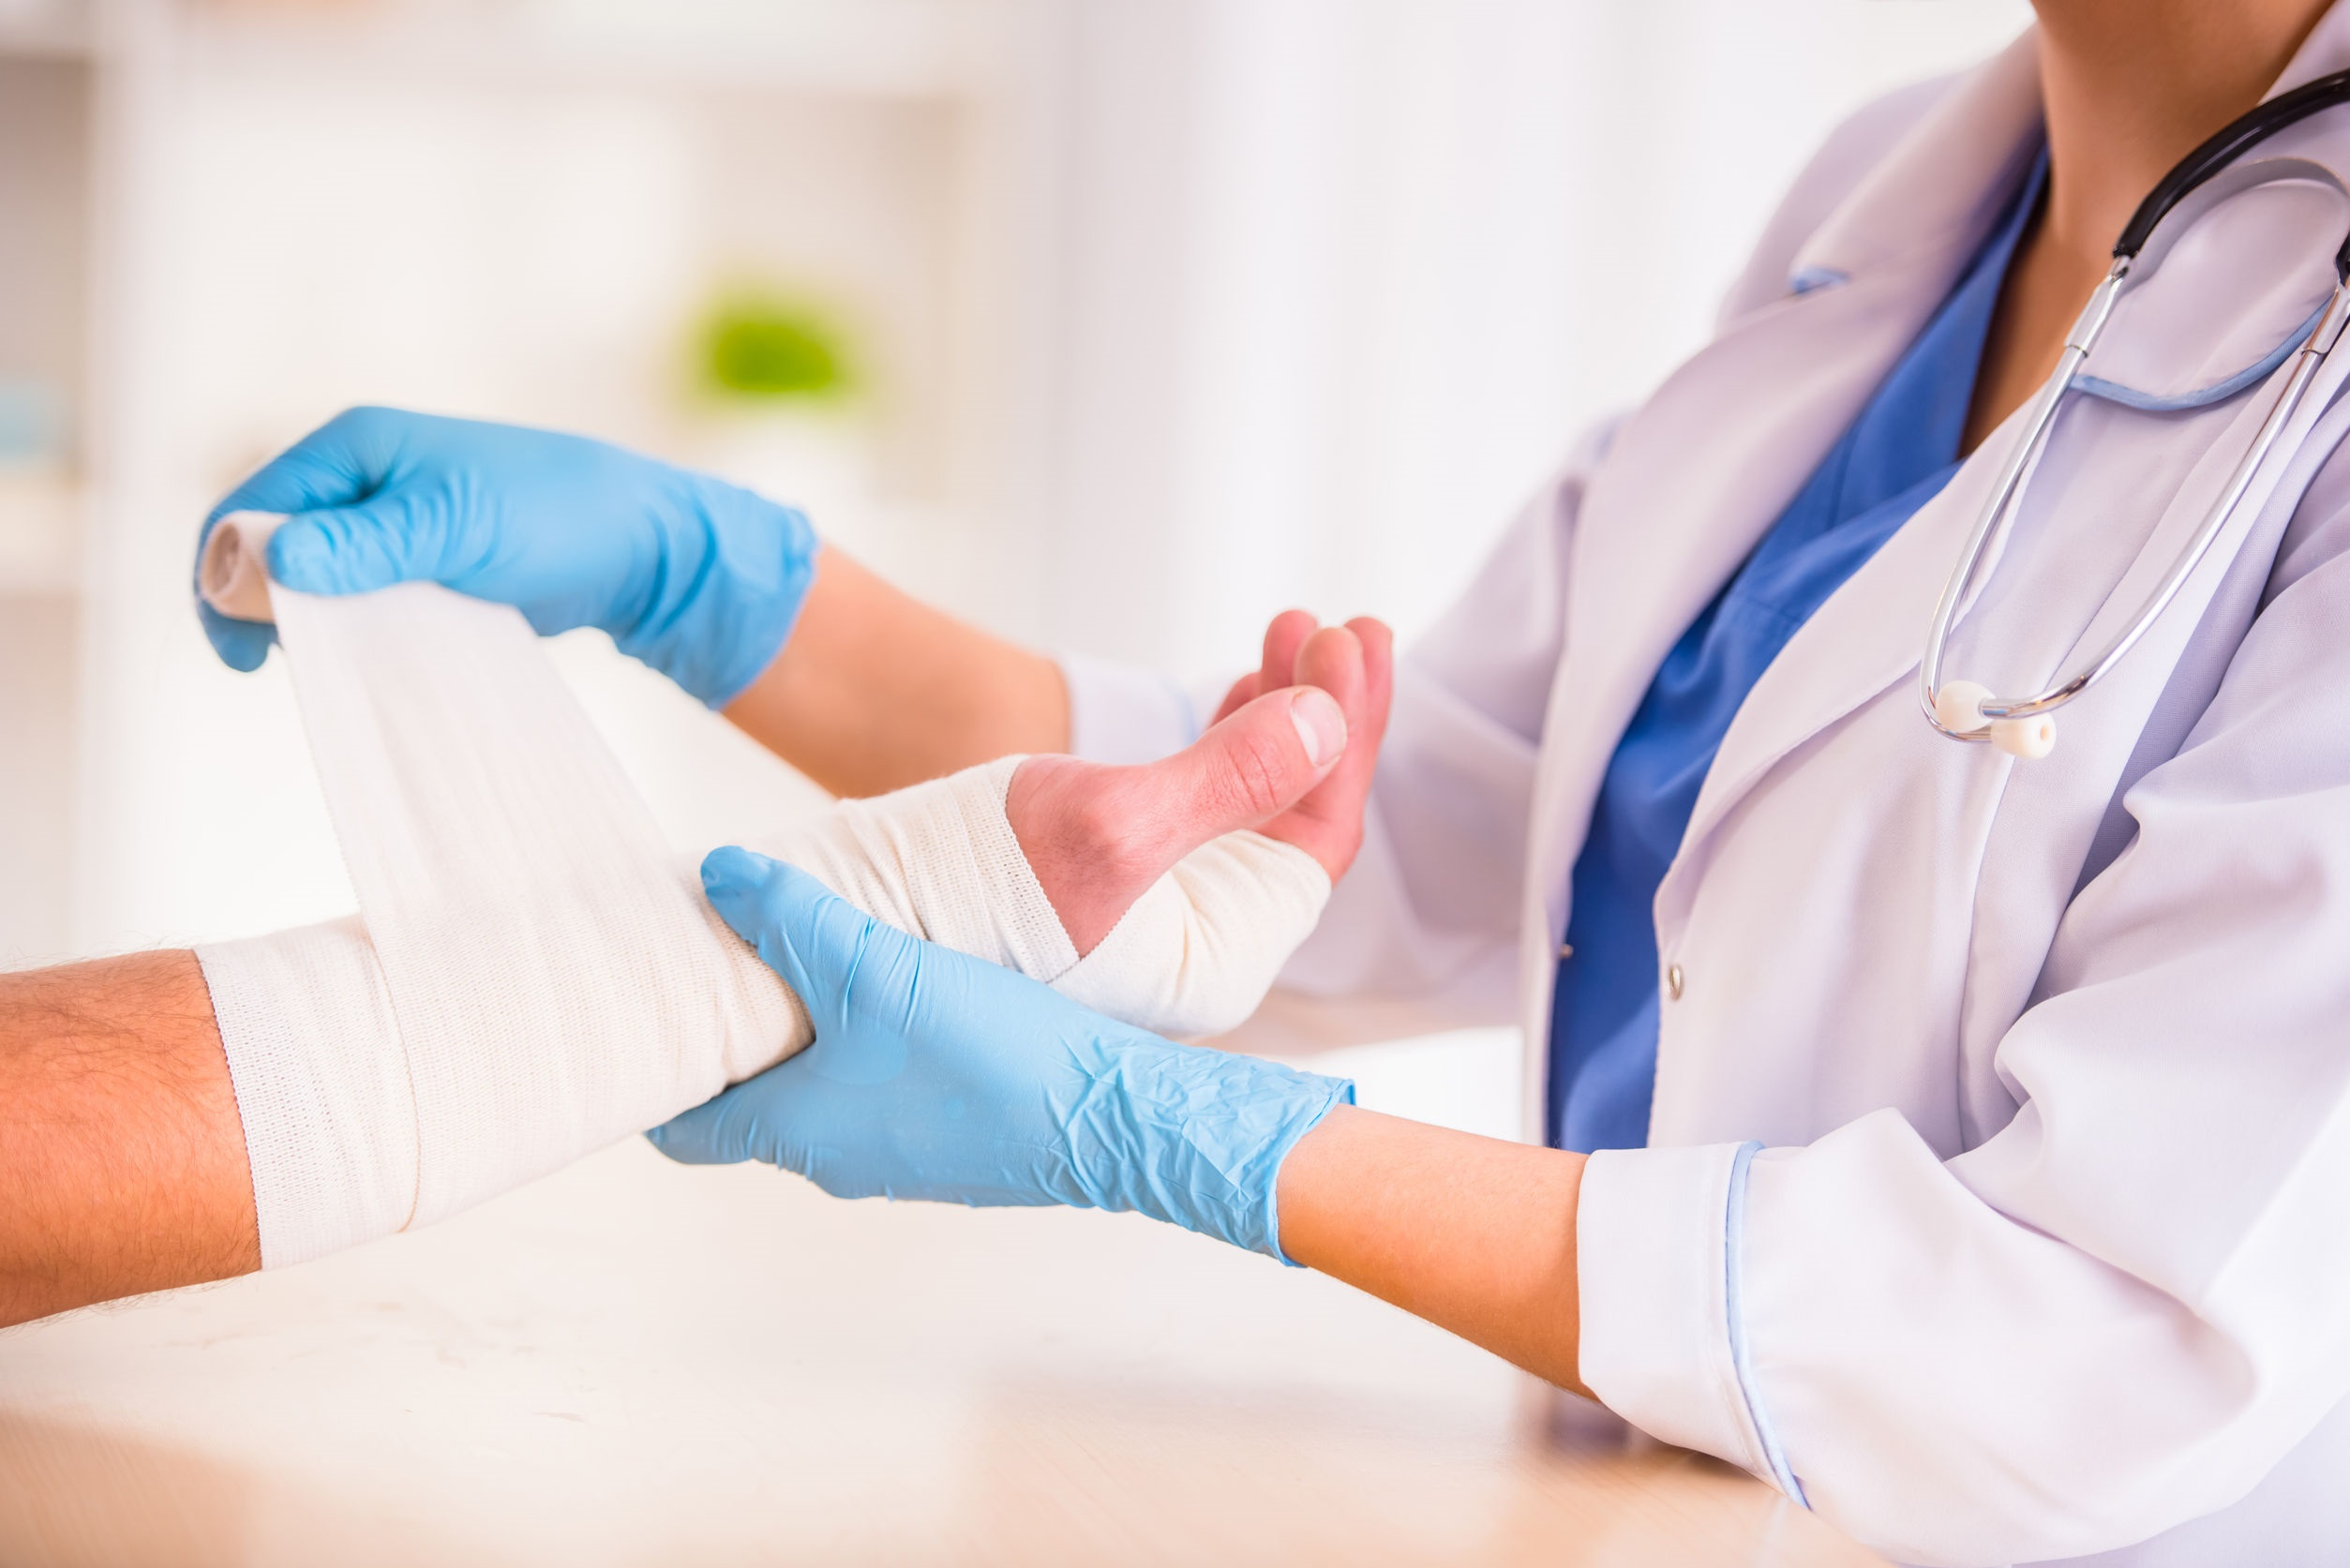Gloves: (644, 838, 1286, 1279), (178, 401, 812, 737)
